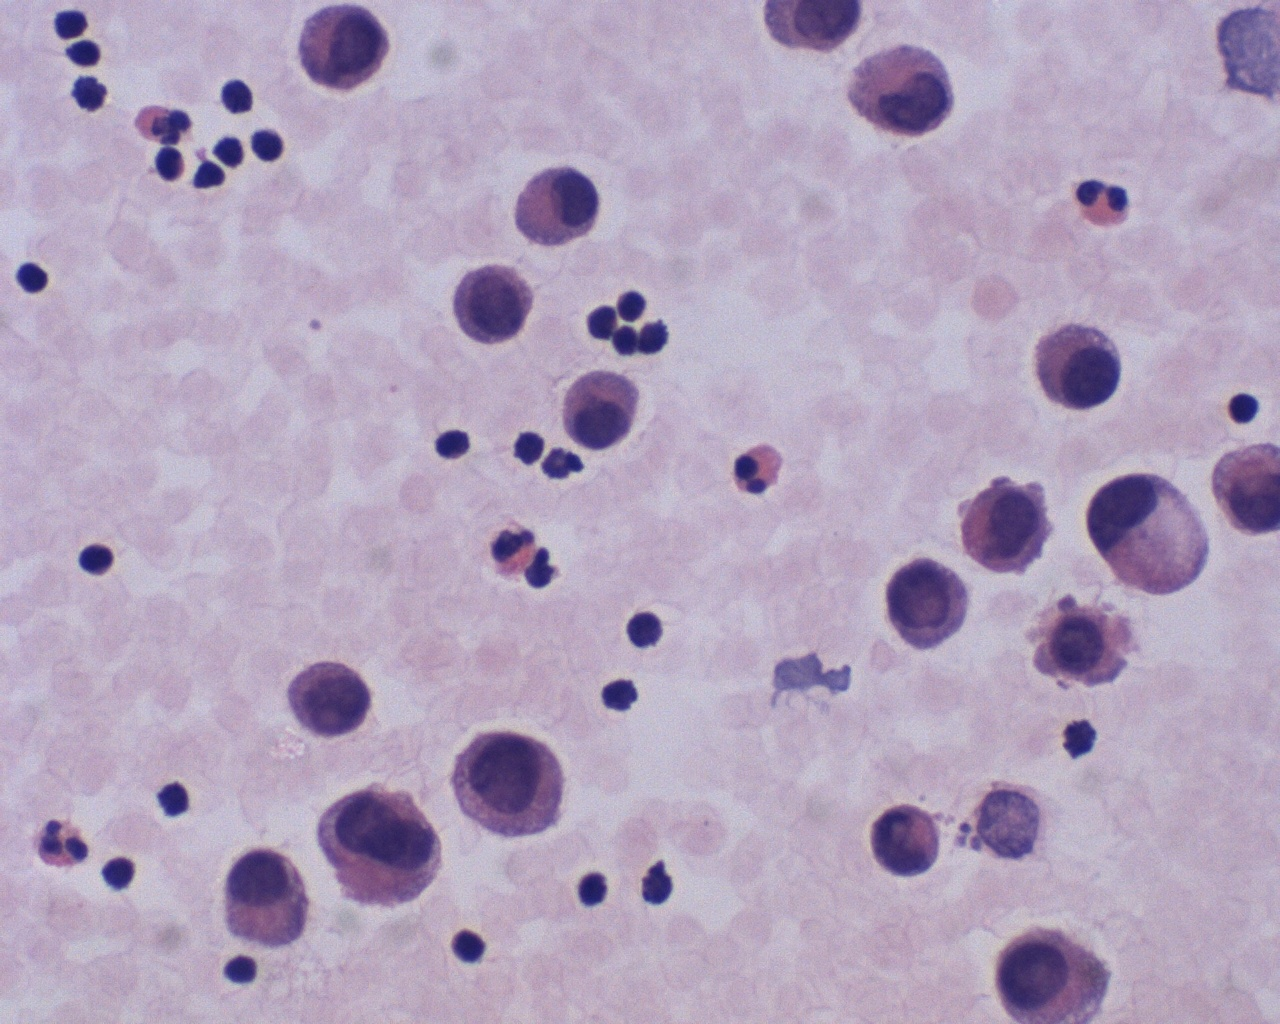ab: (309, 777, 461, 910), (442, 720, 565, 847), (949, 462, 1068, 583), (882, 549, 980, 658), (451, 253, 543, 348), (287, 650, 372, 742), (867, 791, 950, 882)
histo: (1081, 466, 1224, 603)
lymph: (623, 604, 674, 653), (70, 537, 120, 586), (450, 922, 497, 973), (220, 951, 270, 991), (1220, 388, 1267, 428), (13, 259, 53, 300)
meso: (1020, 312, 1142, 420), (282, 1, 403, 100), (513, 158, 600, 252), (559, 370, 649, 450)
neutro: (33, 809, 103, 872)
